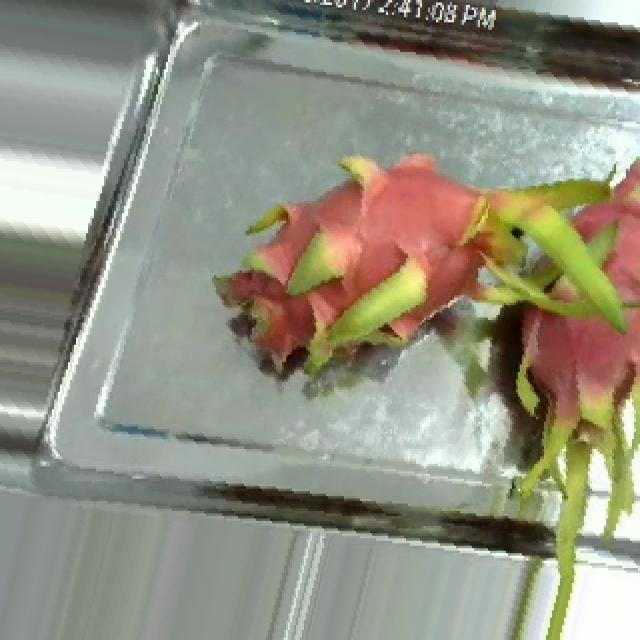Fruit: (506, 270, 640, 454), (592, 139, 640, 322)
